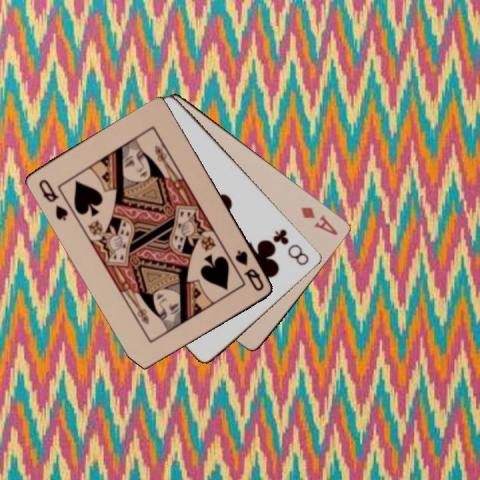8c: (271, 226, 311, 267)
Ad: (297, 203, 340, 237)
Qs: (36, 176, 70, 222), (233, 247, 266, 293)
